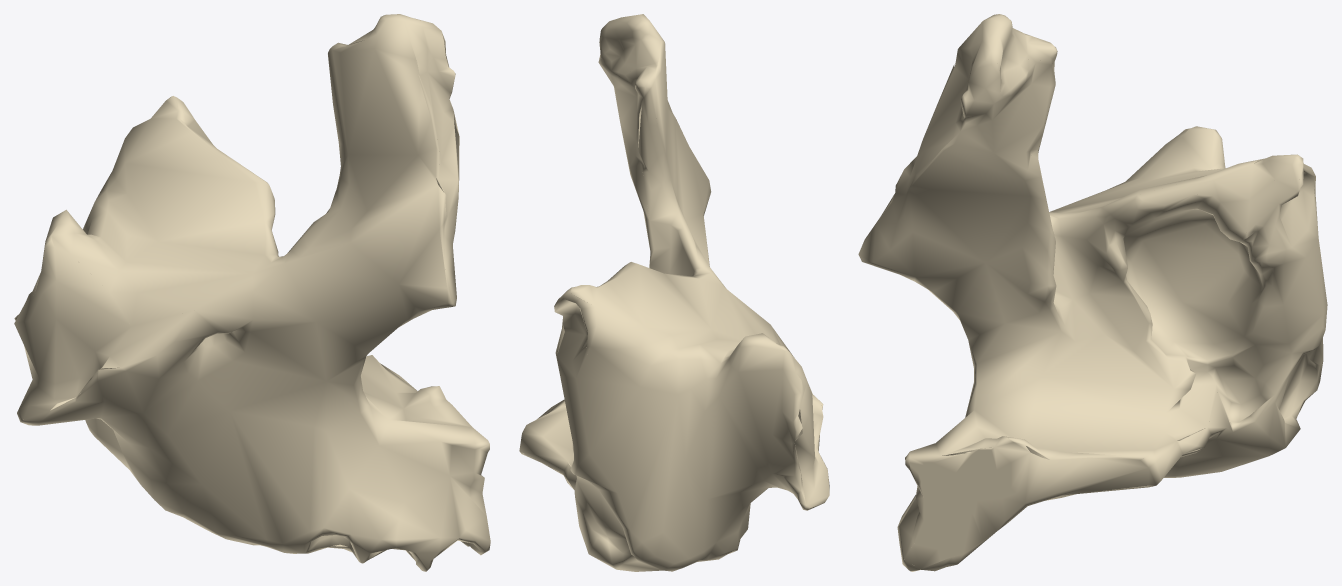
The model's file is esqueleto-maxilla-r.glb.
3 renders of one model, left to right at view 1: azimuth 30°, elevation 25°; view 2: azimuth 150°, elevation 25°; view 3: azimuth 270°, elevation 25°, orthographic. The views are drawn at different scales.
Parts seen in each view (by area): view 1: Maxilla.r; view 2: Maxilla.r; view 3: Maxilla.r.
Boxes of the visible parts, box(x1,y1,x2,y2) form: Maxilla.r: box(14, 14, 490, 571); Maxilla.r: box(519, 14, 829, 571); Maxilla.r: box(858, 14, 1327, 571).
Size of the model in its own units: 0.0462 by 0.0678 by 0.0538.
